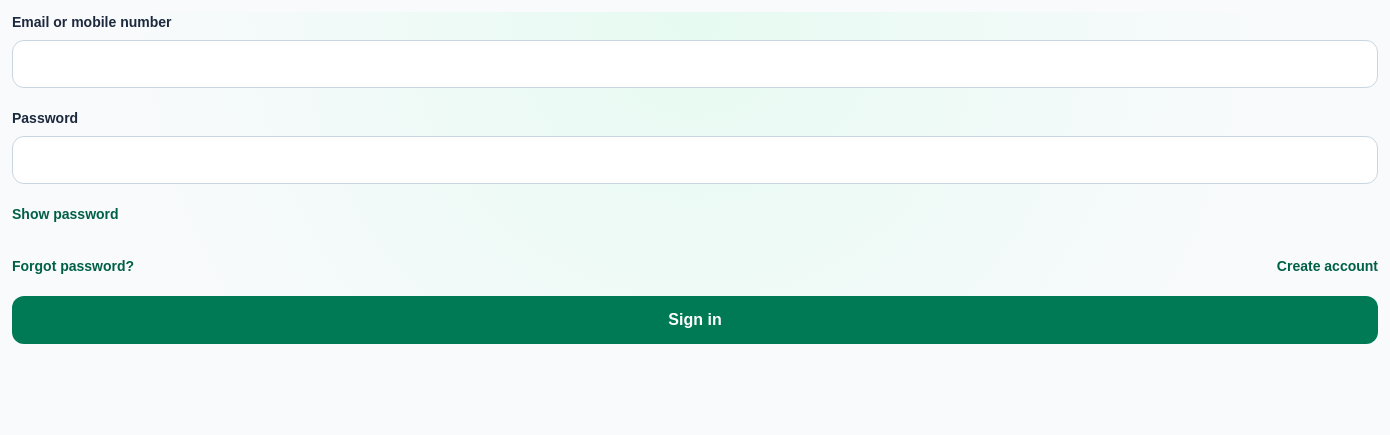
Scenario: authentication forms › shows a safe invalid-credential message
The image size is (1390, 435).
Type "owner@example.com" into the field labelled "Email or mobile number" at (695, 64), box [12, 40, 1378, 88]
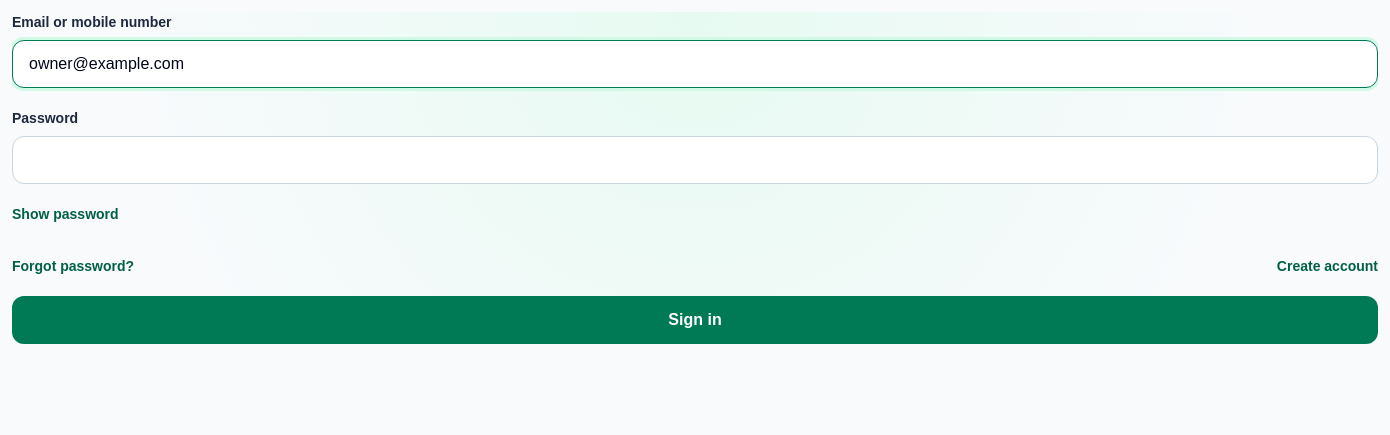
Type "wrong" into the password field labelled "Password" at (695, 160), box [12, 136, 1378, 184]
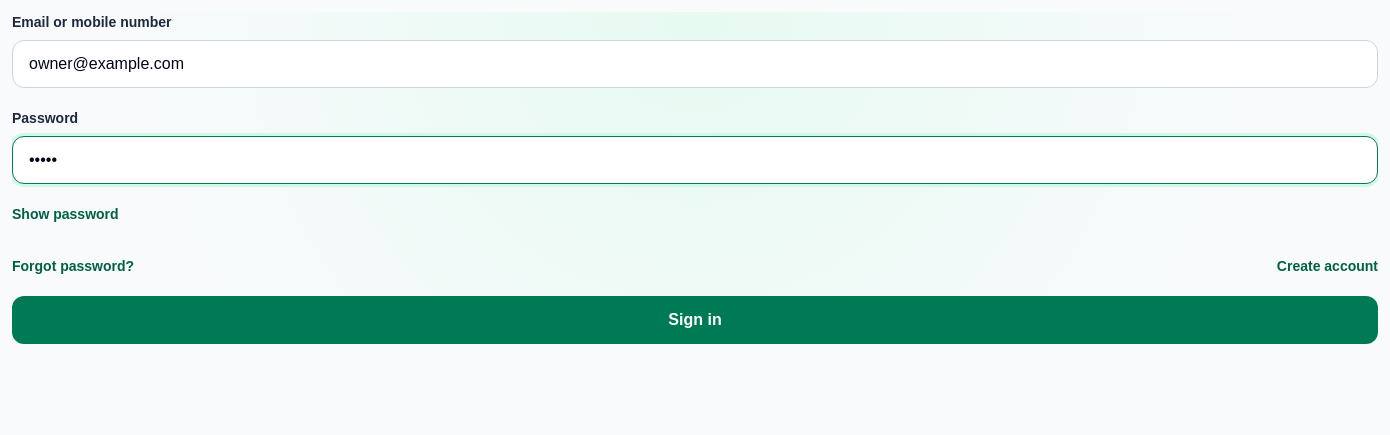
Click the button "Sign in" at (695, 320), box [12, 296, 1378, 344]
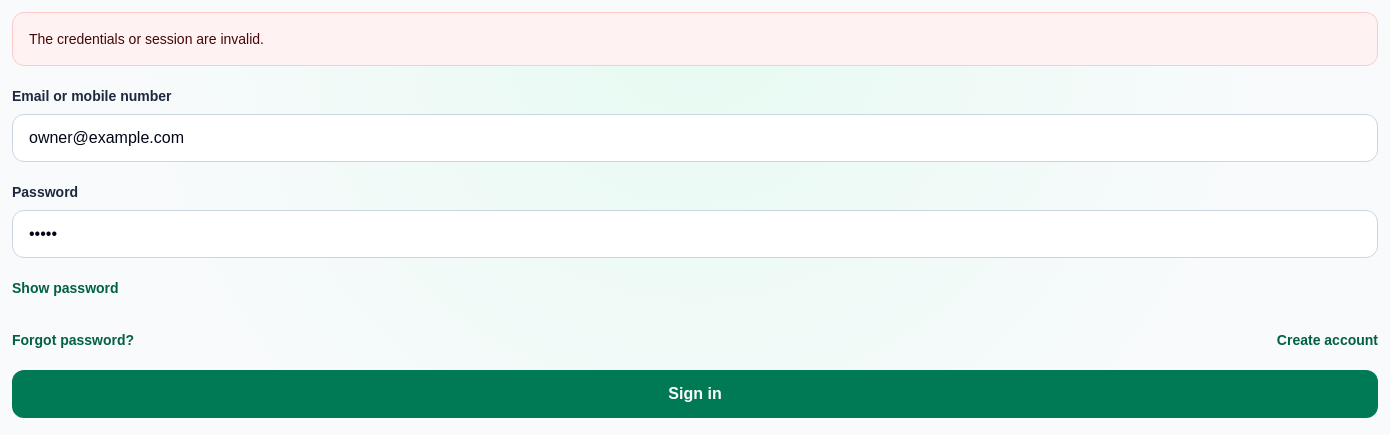
Expected: the message shows "credentials or session are invalid", [29, 31, 264, 47]
